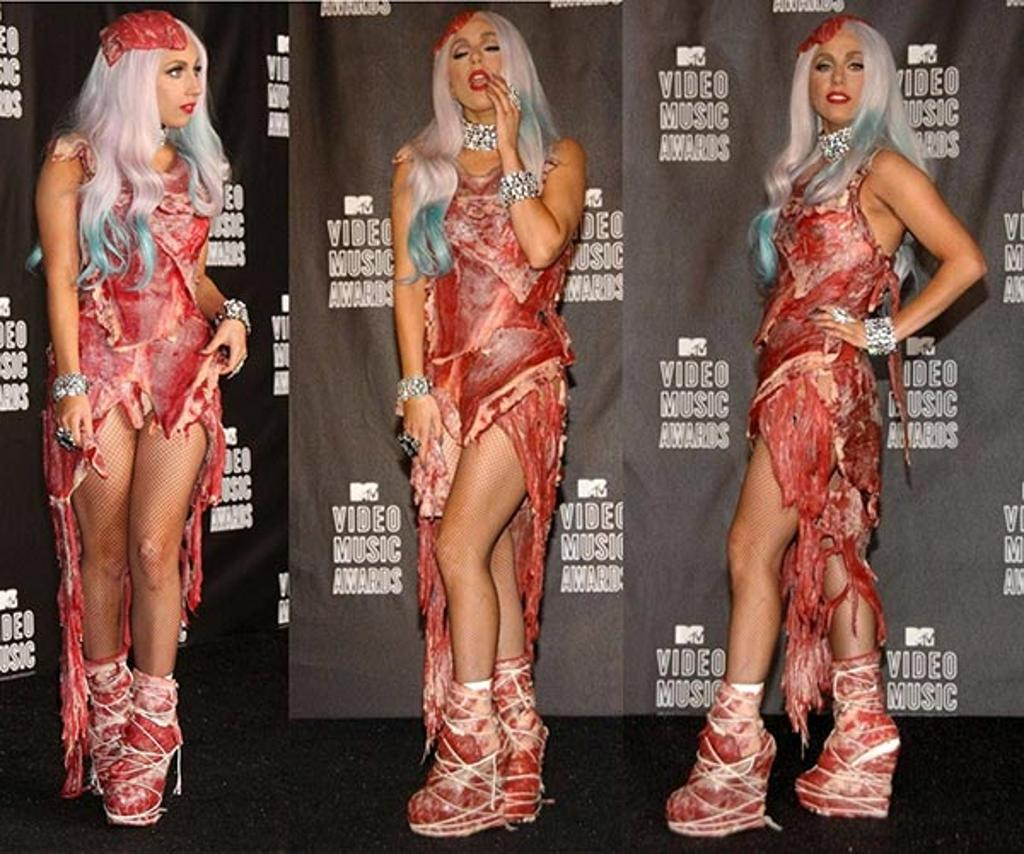face: (444, 12, 510, 108), (138, 34, 206, 124), (808, 32, 870, 124)
